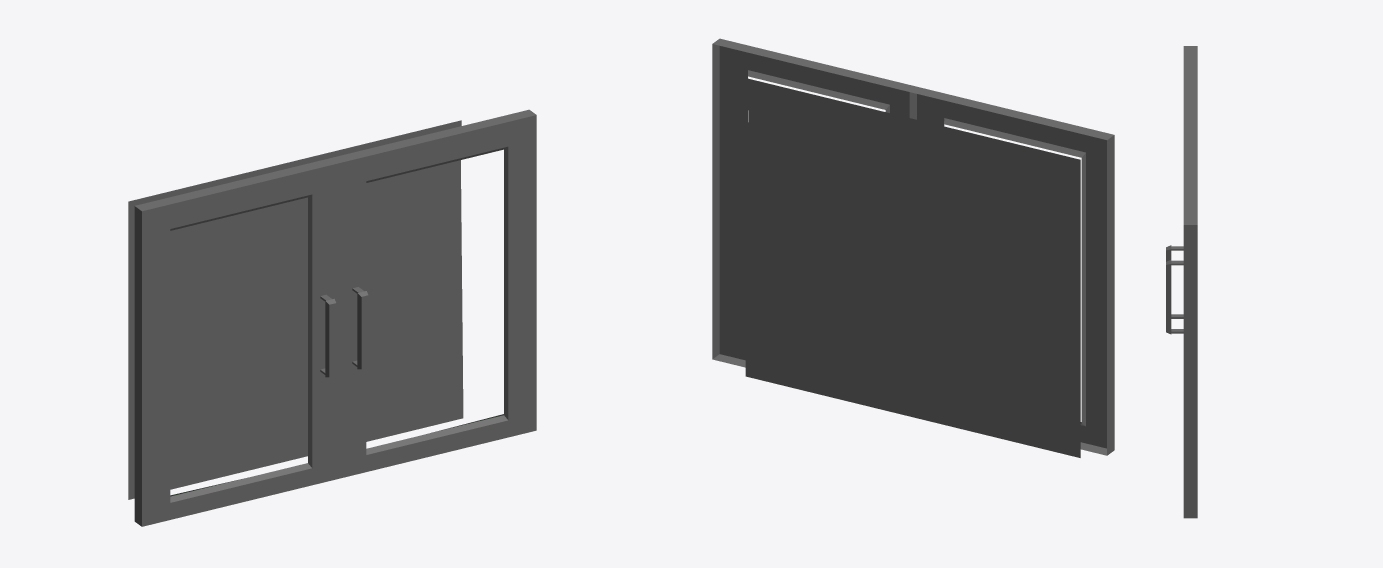
File: UpDrawer.fbx
3 views of the same model, side by side, from view 1: azimuth 30°, elevation 25°; view 2: azimuth 150°, elevation 25°; view 3: azimuth 270°, elevation 25° (orthographic). The views are drawn at different scales.
Parts seen in each view (by area): view 1: polySurface102; view 2: polySurface102; view 3: polySurface102.
Part boxes in pixels (bbox=[...]): polySurface102: bbox=[128, 109, 536, 526]; polySurface102: bbox=[712, 38, 1114, 457]; polySurface102: bbox=[1166, 46, 1197, 518].
Bounding box in the file's own units: 0.8788 × 0.6672 × 0.3669.
